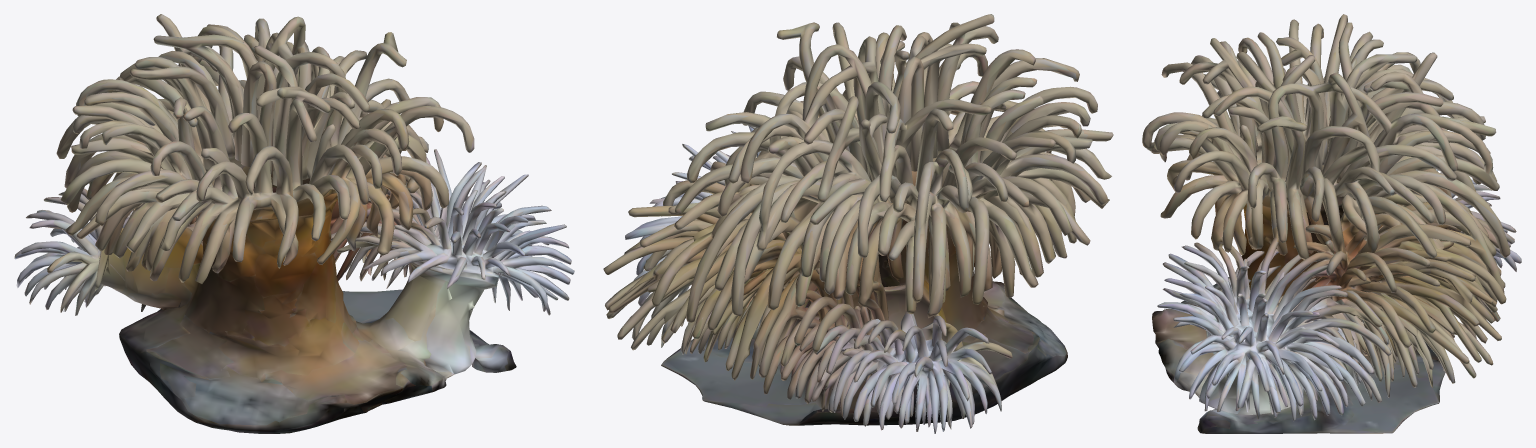
Rendered from anemone1.glb.
3 views of the same model, side by side, from view 1: azimuth 30°, elevation 25°; view 2: azimuth 150°, elevation 25°; view 3: azimuth 270°, elevation 25° (orthographic). The views are drawn at different scales.
Visible parts, largest first — view 1: node_0; view 2: node_0; view 3: node_0.
Boxes of the visible parts, <box> form: node_0: <box>14,14,574,433</box>; node_0: <box>603,14,1113,433</box>; node_0: <box>1142,14,1521,433</box>.
Bounding box in the file's own units: 1.03 × 0.723 × 0.8387.
1 material, 1 textured.
